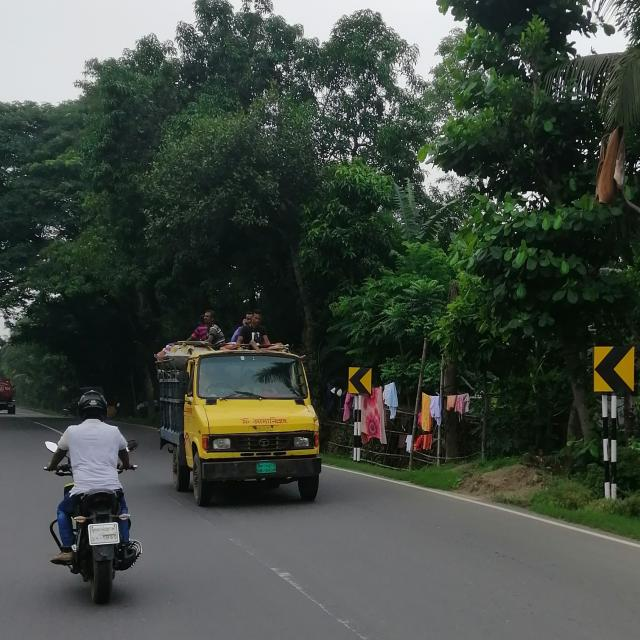Motorbike: (42, 433, 151, 608)
Truck: (157, 328, 326, 510)
